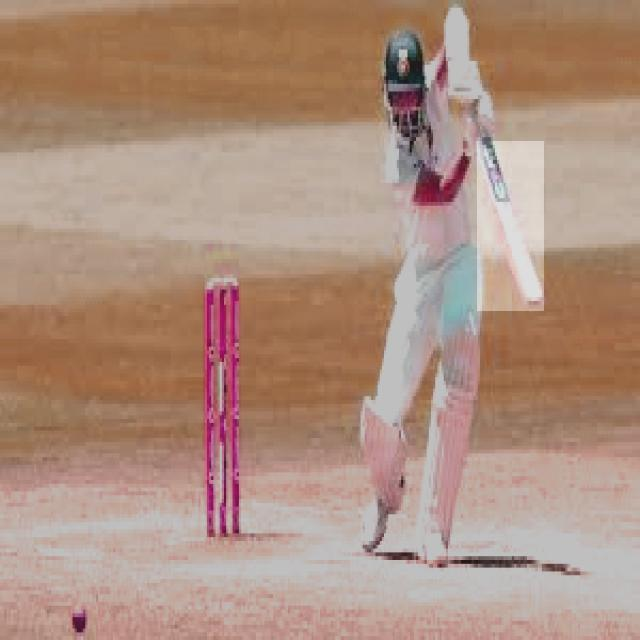bat: (478, 141, 542, 313)
toe: (523, 294, 549, 310)
